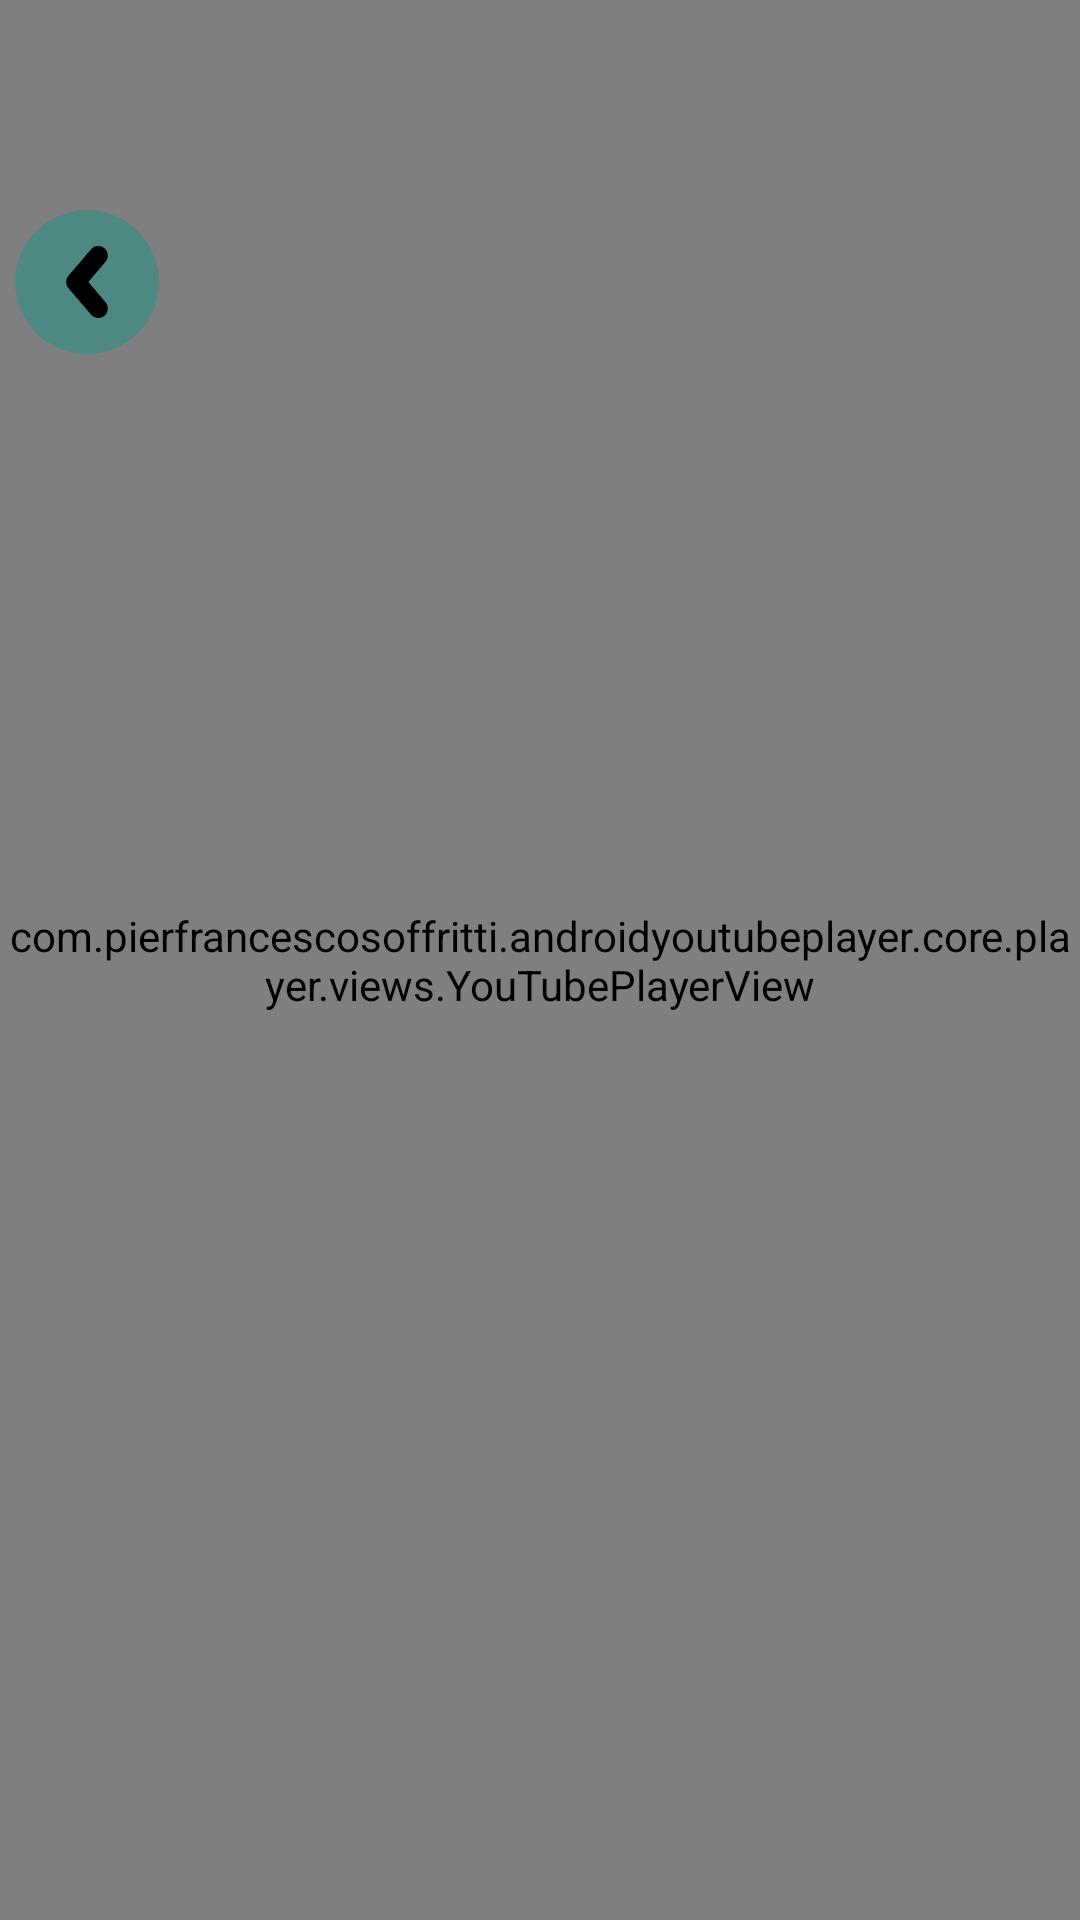

Screen size 1080 × 1920. Icon name, then its center in pixels as [x,y]:
back arrow: [87,282]
